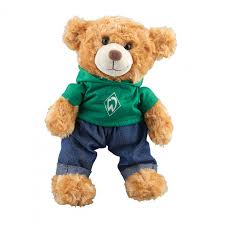teddy: (37, 10, 186, 214)
